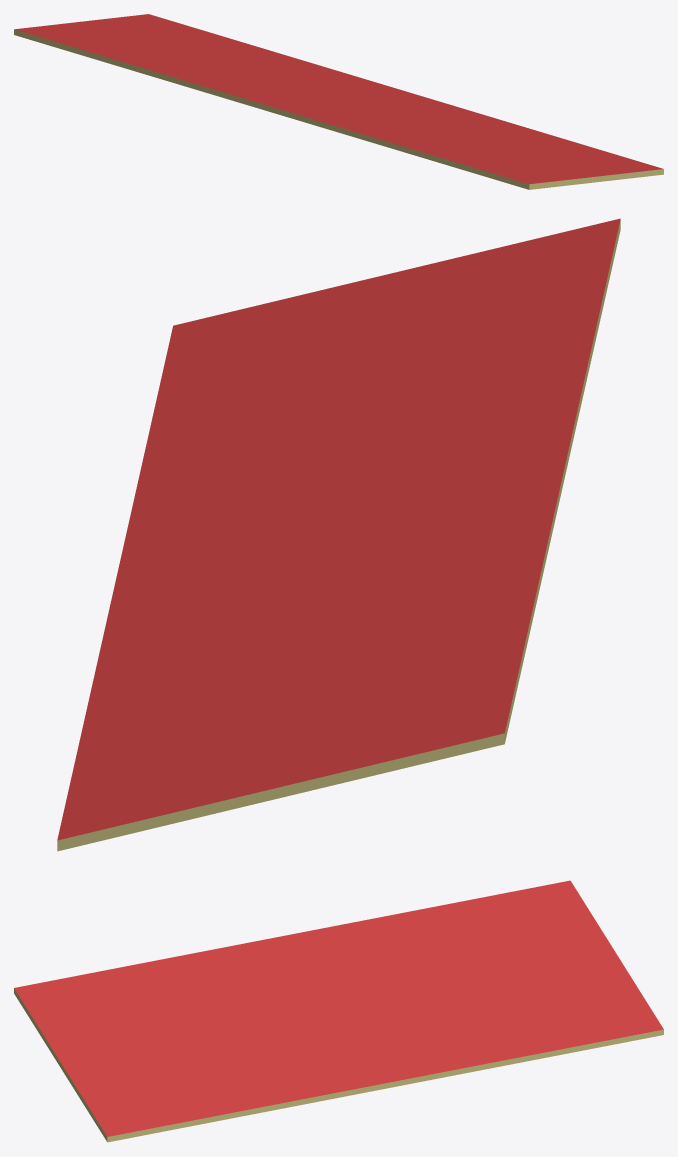
3 renders of one model, top to bottom at view 1: azimuth 30°, elevation 25°; view 2: azimuth 150°, elevation 25°; view 3: azimuth 270°, elevation 25°, orthographic. The views are drawn at different scales.
Size of the model in its own units: 7.59 by 10.75 by 1.24.
